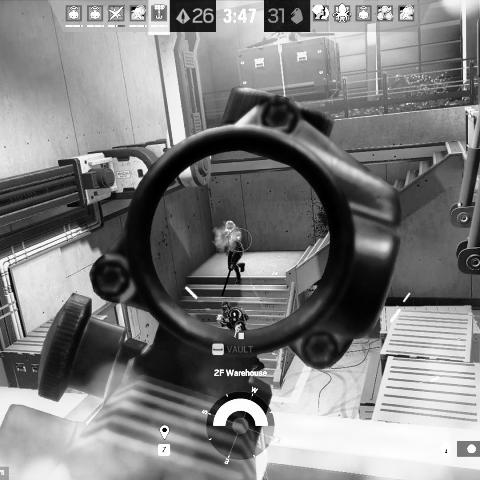Character: (215, 300, 266, 374), (218, 220, 246, 286)
Head: (220, 300, 231, 313), (226, 220, 236, 231)
